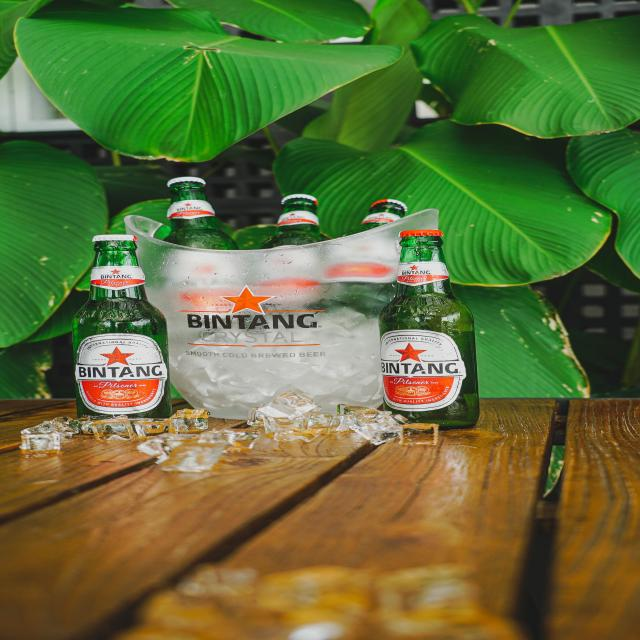Bottle: (380, 230, 478, 427), (73, 235, 171, 418), (164, 177, 238, 249), (262, 194, 322, 248), (345, 199, 407, 235)
